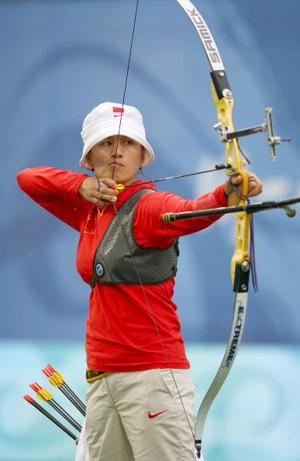person: (17, 102, 264, 461)
